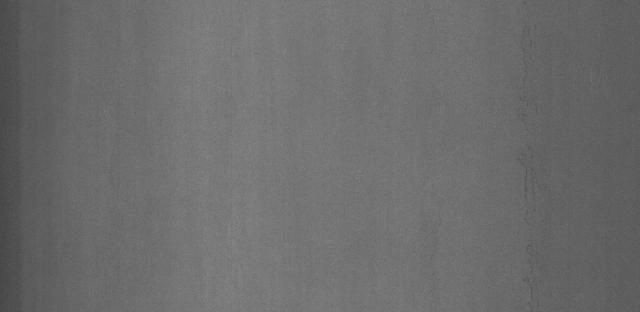silk_spot: (507, 40, 564, 288)
